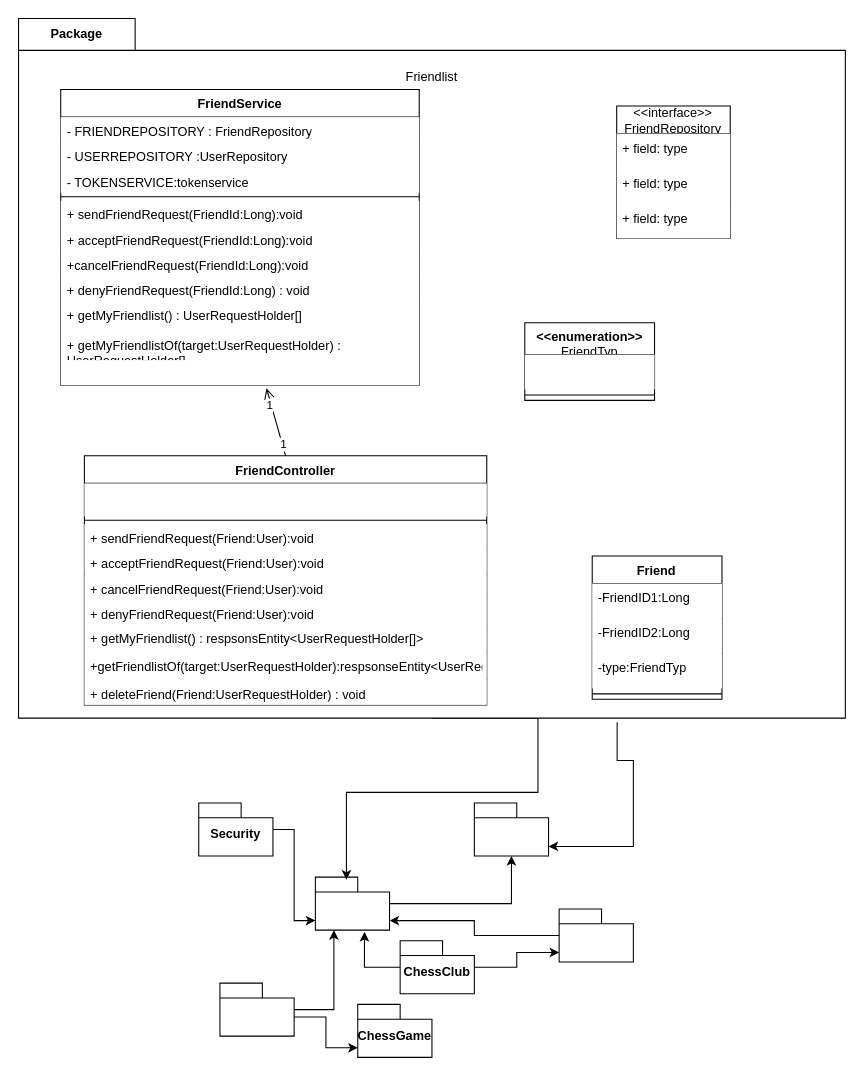
This 864x1076 diagram has some shape labels left out. Here are the shapes that lost their labels. From the top down, the centre of each, then its label:
(239,372): + deleteFriend(FriendId:Long) : void
(589,371): FRIEND,REQUEST
(285,499): - FRIENDSERVICE : friendService
(511,829): Email
(352,903): User
(595,935): Chat
(256,1009): Matchmaking
